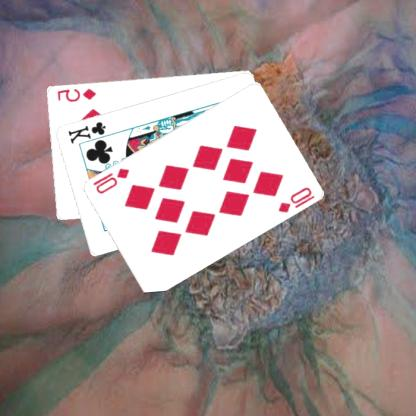10D: (276, 184, 318, 215), (91, 165, 132, 196)
5D: (56, 85, 99, 103)
KC: (66, 118, 115, 147)
